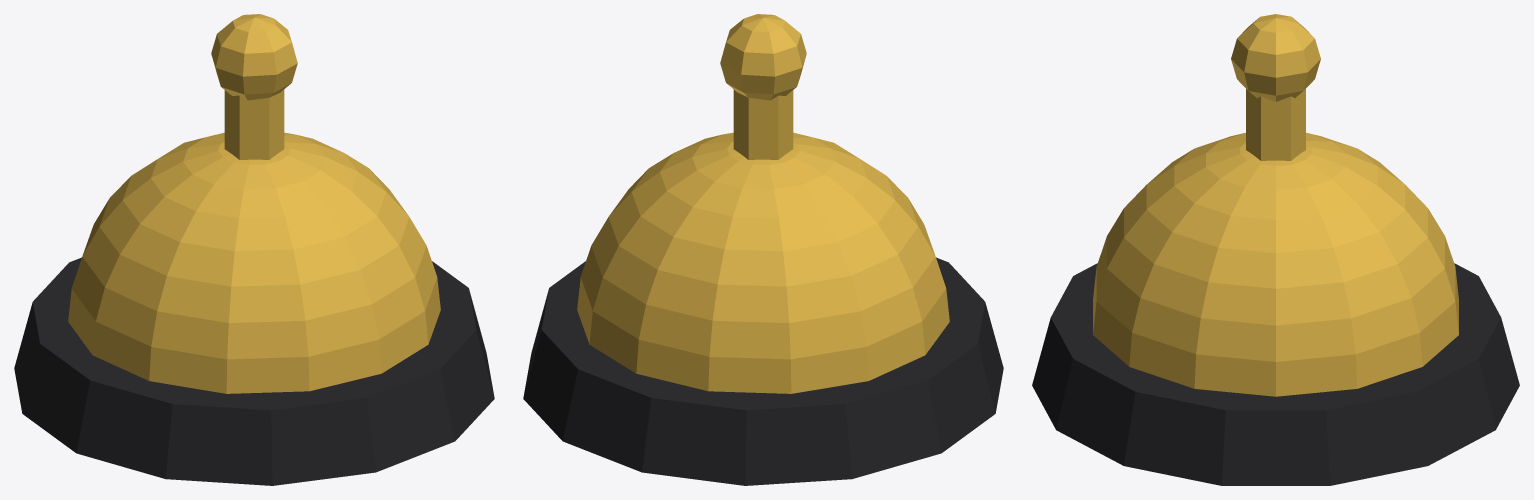
File: service_bell.glb
3 renders of one model, left to right at view 1: azimuth 30°, elevation 25°; view 2: azimuth 150°, elevation 25°; view 3: azimuth 270°, elevation 25°, orthographic.
Parts seen in each view (by area): view 1: dome_bell_gold, base_bell_base, knob_bell_gold, plunger_bell_gold; view 2: dome_bell_gold, base_bell_base, knob_bell_gold, plunger_bell_gold; view 3: dome_bell_gold, base_bell_base, knob_bell_gold, plunger_bell_gold.
Boxes of the visible parts, bbox=[...] form: dome_bell_gold: bbox=[68, 132, 440, 393]; base_bell_base: bbox=[14, 257, 494, 485]; knob_bell_gold: bbox=[211, 14, 297, 100]; plunger_bell_gold: bbox=[224, 89, 284, 159]; dome_bell_gold: bbox=[577, 132, 949, 393]; base_bell_base: bbox=[523, 257, 1003, 485]; knob_bell_gold: bbox=[720, 14, 806, 100]; plunger_bell_gold: bbox=[733, 89, 793, 159]; dome_bell_gold: bbox=[1093, 133, 1458, 396]; base_bell_base: bbox=[1032, 263, 1519, 485]; knob_bell_gold: bbox=[1231, 14, 1320, 101]; plunger_bell_gold: bbox=[1246, 89, 1305, 160].
Bounding box in the file's own units: 0.1267 × 0.108 × 0.13.
